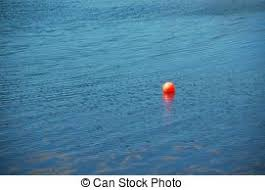buoy: (162, 82, 175, 93)
